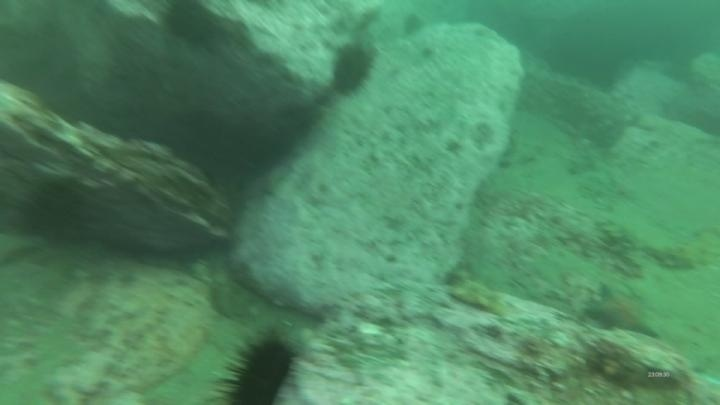echinus: (216, 331, 304, 405), (17, 179, 90, 245), (159, 1, 222, 49), (328, 41, 376, 98)
starfish: (582, 281, 663, 342)
